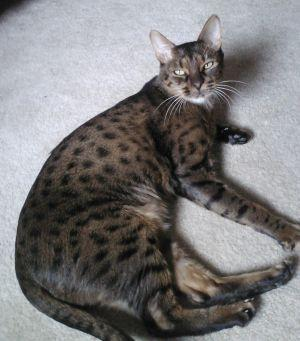bengal: (142, 12, 242, 107)
